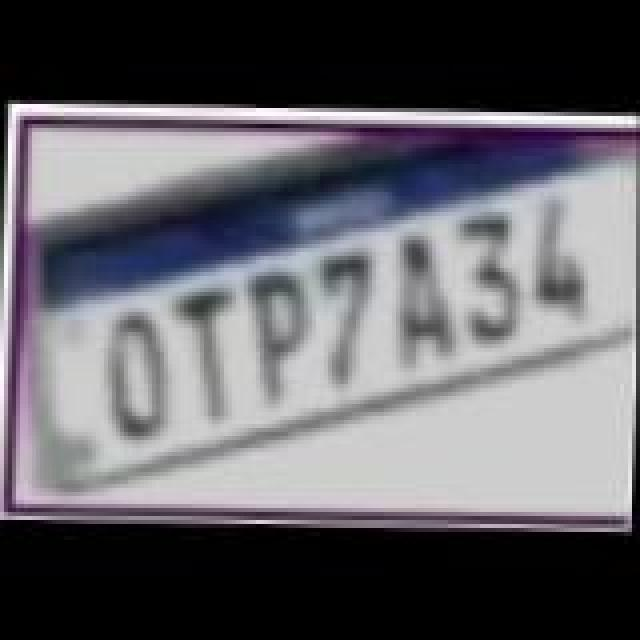3: (454, 214, 530, 346)
4: (528, 200, 592, 324)
7: (312, 250, 380, 390)
A: (386, 236, 458, 372)
O: (102, 312, 178, 448)
P: (246, 268, 318, 408)
T: (170, 288, 246, 428)
